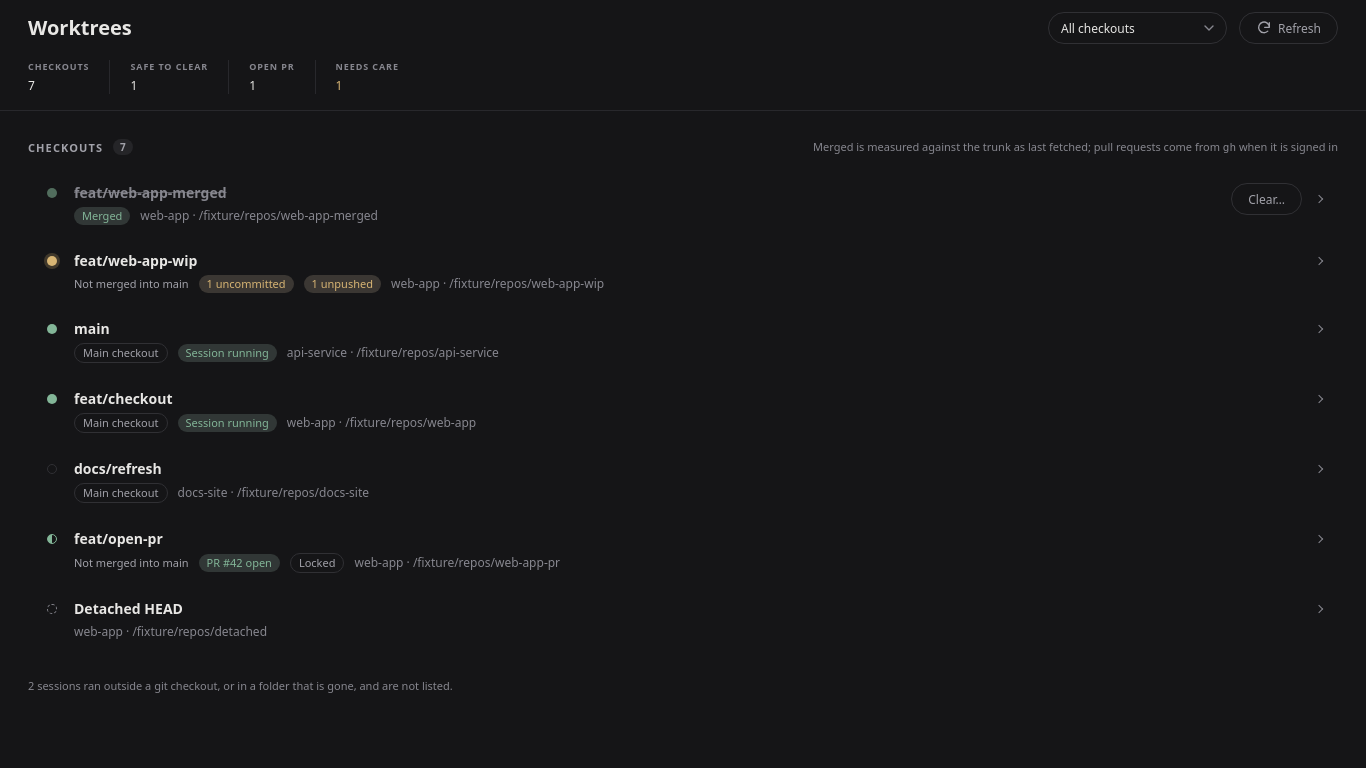
Scenario: Clear worktree confirmation › lists what is removed and what is left alone, and removes only on confirm
Expected: the heading "Worktrees" is shown, left=28, top=14, right=132, bottom=41
Click the button "Clear…" at {"x": 1267, "y": 199}, box left=1231, top=183, right=1302, bottom=215
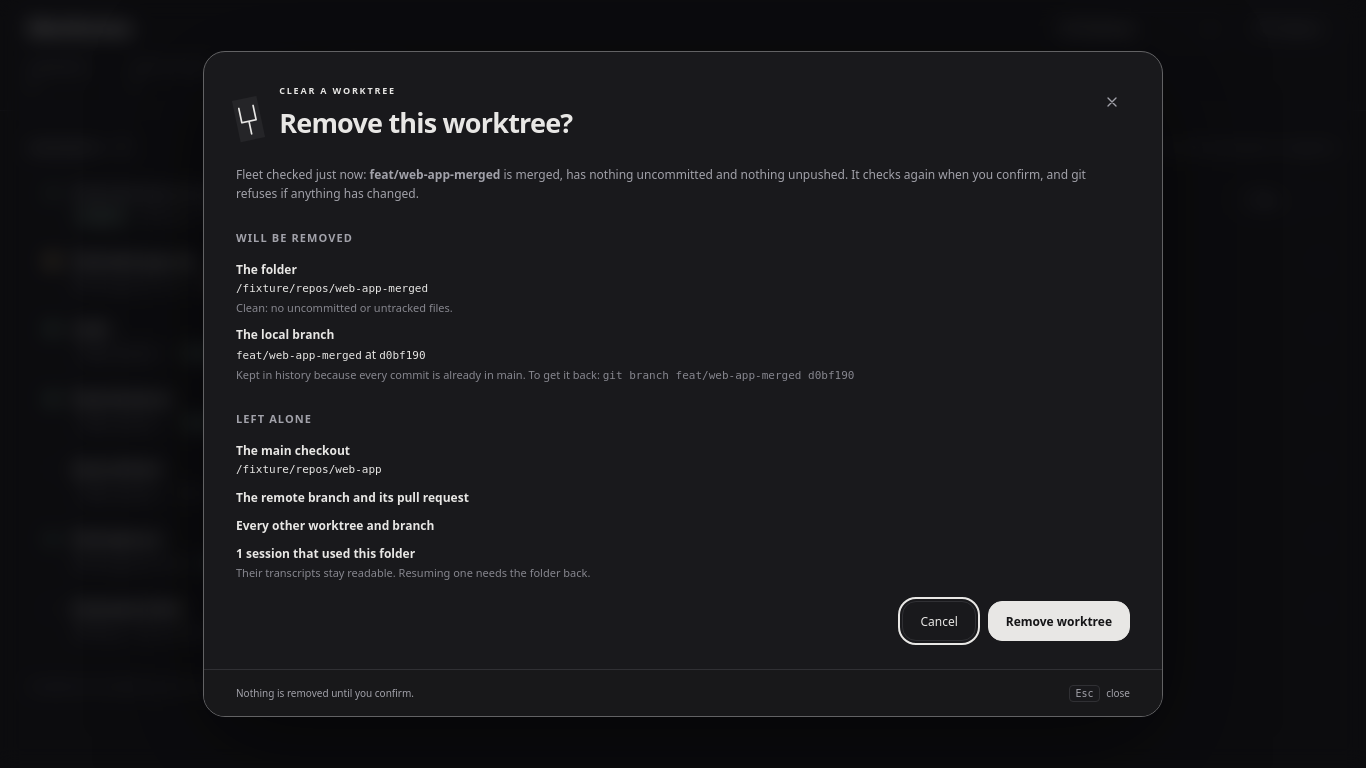
Expected: the heading "Remove this worktree?" is shown, left=279, top=106, right=572, bottom=140
Expected: the dialog shows "Will be removed", left=236, top=230, right=353, bottom=245
Expected: the dialog shows "/fixture/repos/web-app-merged", left=236, top=282, right=428, bottom=295
Click the button "Remove worktree" at {"x": 1059, "y": 621}, box left=988, top=601, right=1130, bottom=641
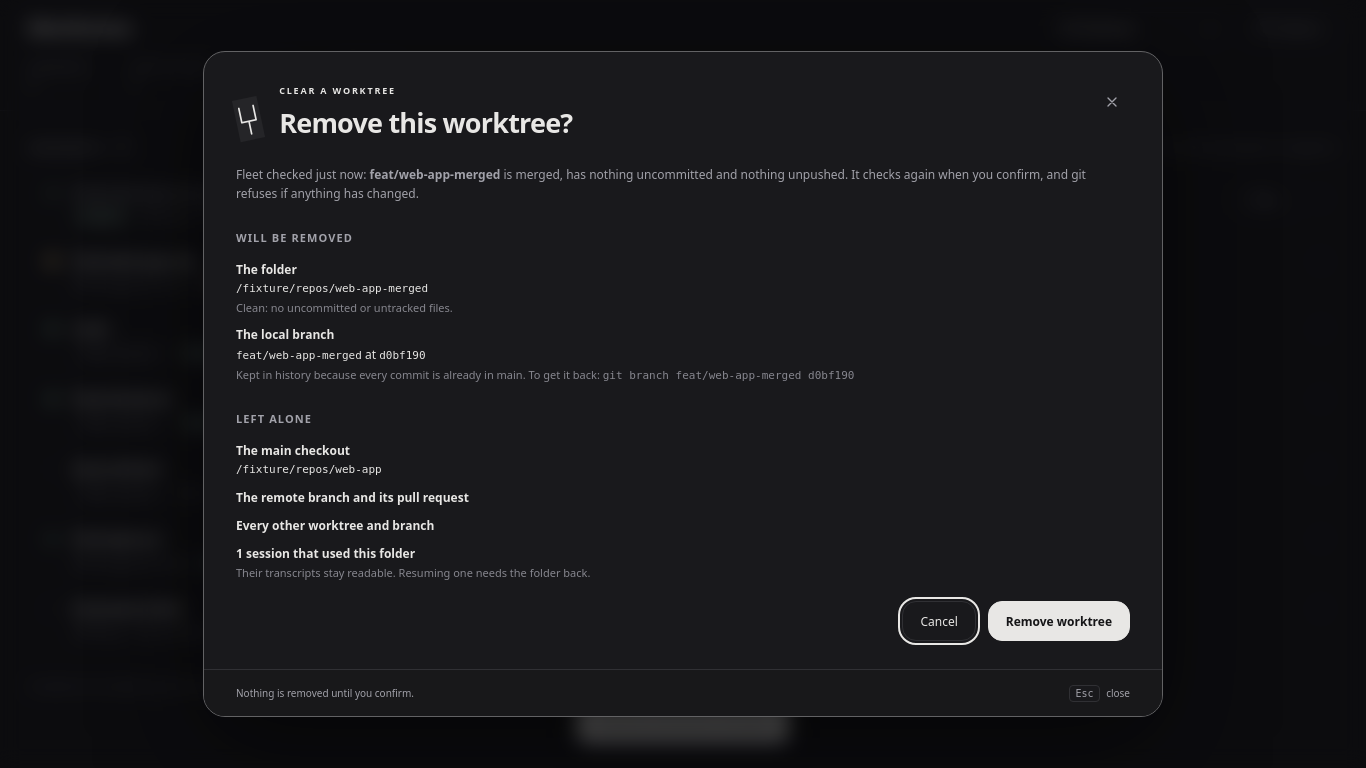
Expected: the message with id "toast" reads "Worktree and branch removed", left=597, top=714, right=769, bottom=731
